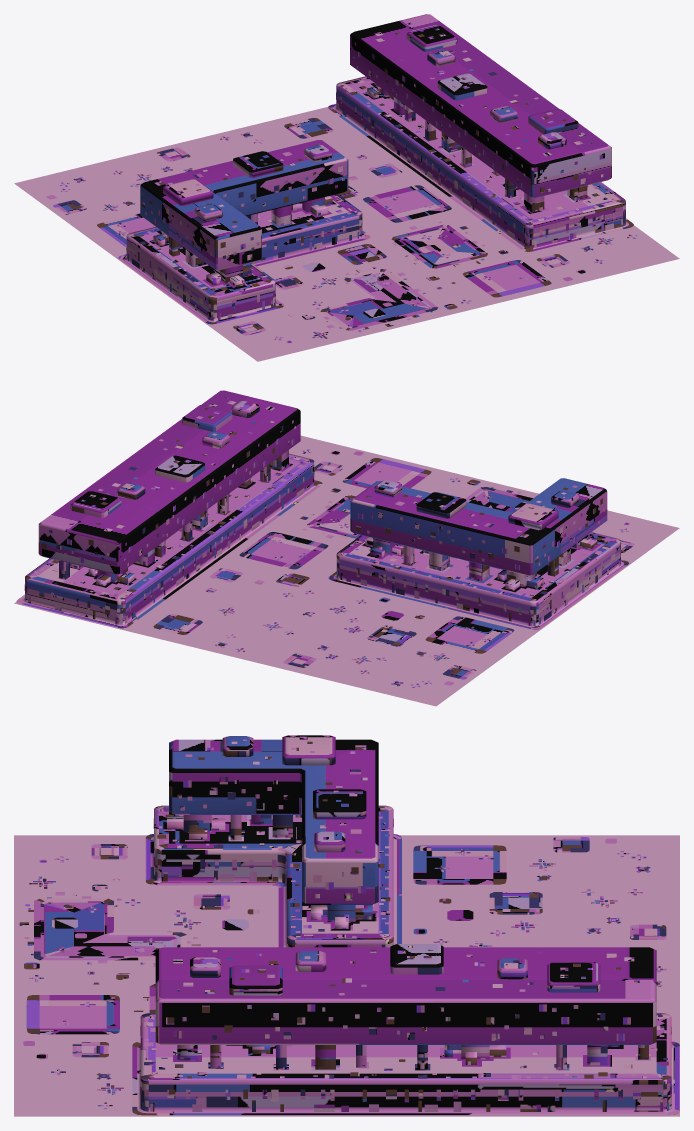
File: C_forest2_07.fbx
3 views of the same model, one above another, from view 1: azimuth 30°, elevation 25°; view 2: azimuth 150°, elevation 25°; view 3: azimuth 270°, elevation 25° (orthographic). The views are drawn at different scales.
Parts seen in each view (by area): view 1: C_forest2_07.001; view 2: C_forest2_07.001; view 3: C_forest2_07.001.
Part boxes in pixels (x1,y1,x2,y2): C_forest2_07.001: [14, 14, 679, 361]; C_forest2_07.001: [14, 390, 679, 706]; C_forest2_07.001: [14, 735, 679, 1116].
Size of the model in its own units: 50 by 9.64 by 50.
Materials: 1 (1 with a texture image).
